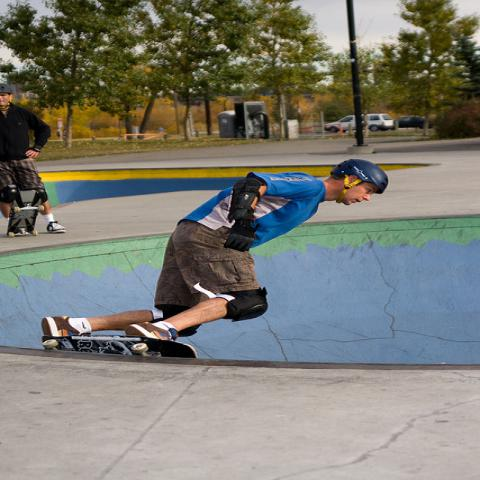car: (324, 114, 394, 131), (391, 115, 434, 130)
